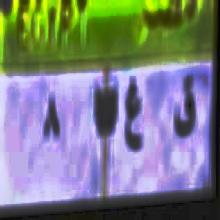8: (40, 96, 68, 149)
ghayn: (120, 72, 148, 157)
qaaf: (173, 73, 199, 149)
